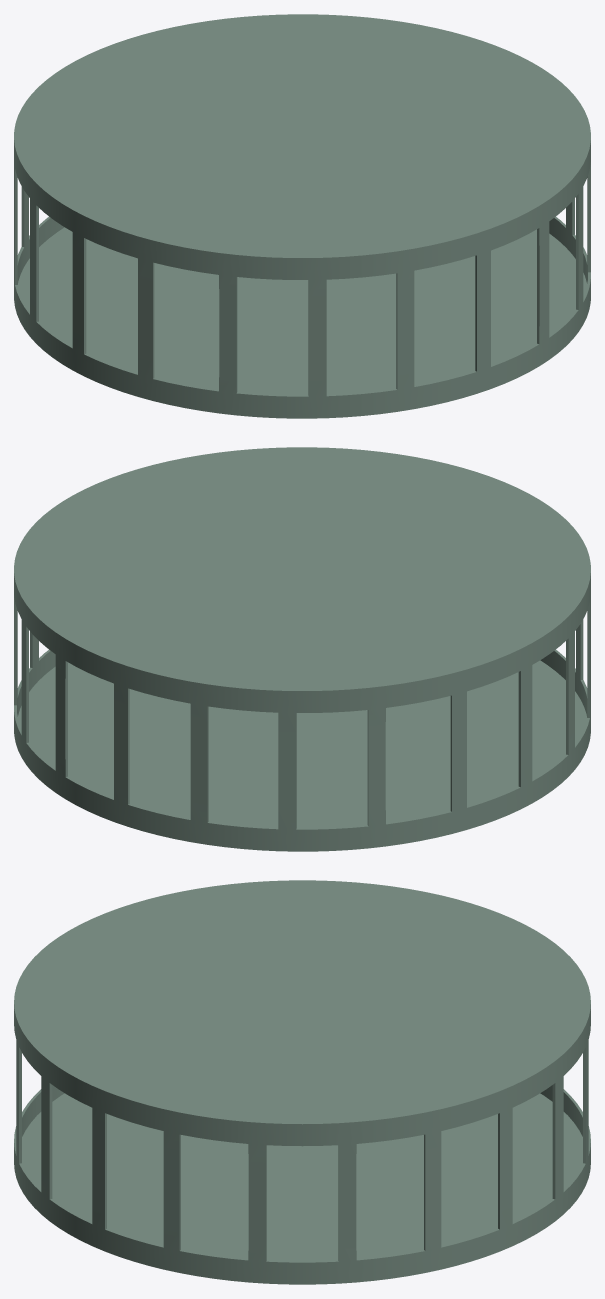
File: telescopeViewport.gltf
3 renders of one model, top to bottom at view 1: azimuth 30°, elevation 25°; view 2: azimuth 150°, elevation 25°; view 3: azimuth 270°, elevation 25°, orthographic.
Parts seen in each view (by area): view 1: telescopeViewport; view 2: telescopeViewport; view 3: telescopeViewport.
Part boxes in pixels (<box>): telescopeViewport: <box>14,14,590,418</box>; telescopeViewport: <box>14,447,590,851</box>; telescopeViewport: <box>14,880,590,1284</box>.
Bounding box in the file's own units: 20.2 × 6.2 × 20.2.
